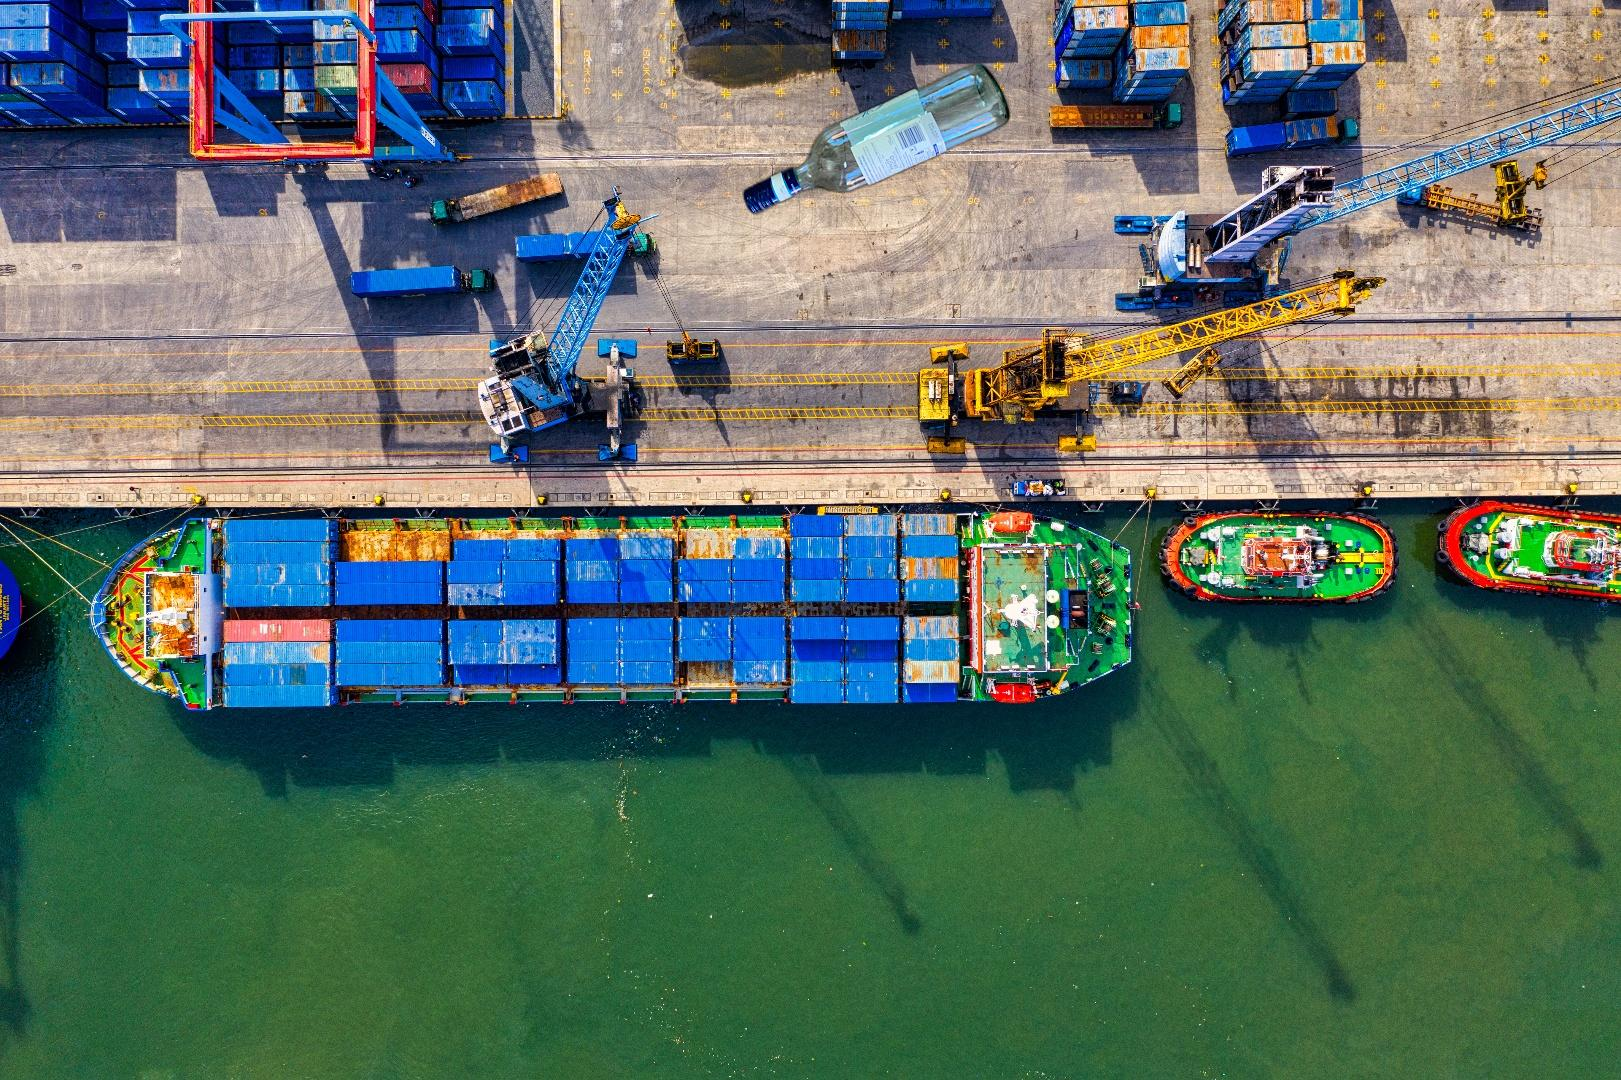glass: (739, 58, 1015, 221)
